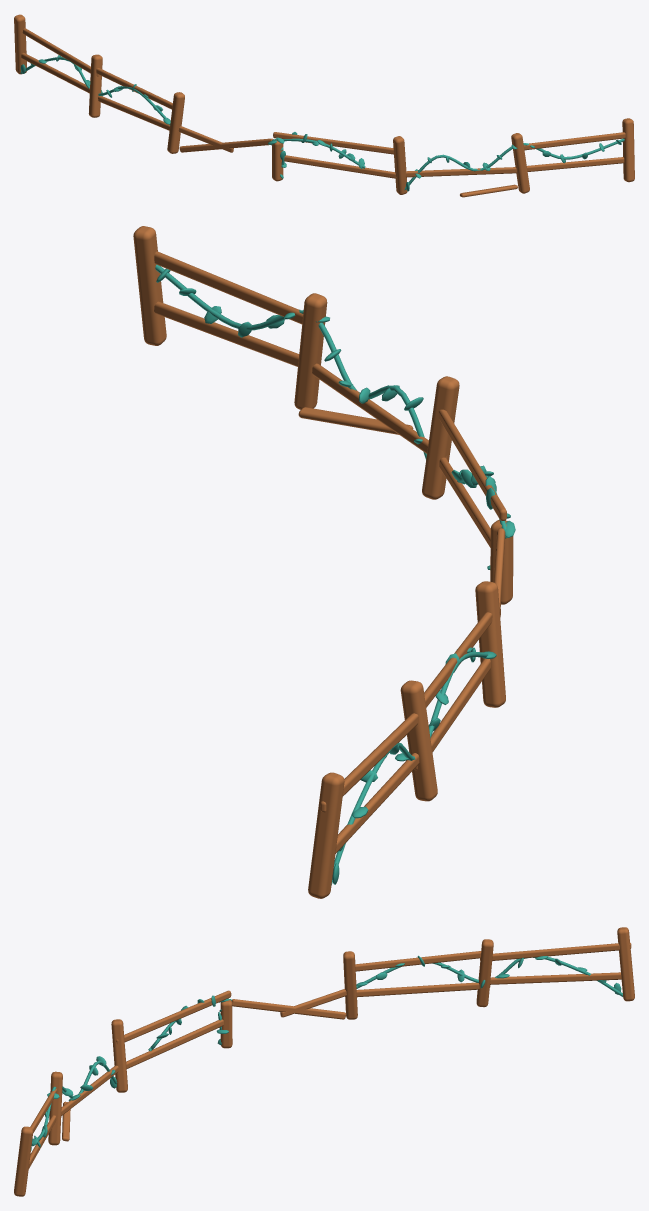
The model's file is PROP_FENCE_BROKEN.glb.
3 renders of one model, top to bottom at view 1: azimuth 30°, elevation 25°; view 2: azimuth 150°, elevation 25°; view 3: azimuth 270°, elevation 25°, orthographic. The views are drawn at different scales.
Visible parts, largest first — view 1: fence, vines; view 2: fence, vines; view 3: fence, vines.
Boxes of the visible parts, bbox=[...] form: fence: bbox=[14, 14, 634, 197]; vines: bbox=[20, 55, 624, 191]; fence: bbox=[133, 226, 513, 898]; vines: bbox=[155, 264, 515, 885]; fence: bbox=[14, 927, 634, 1196]; vines: bbox=[31, 955, 622, 1150].
Bounding box in the file's own units: 22.55 × 3.61 × 29.06.
